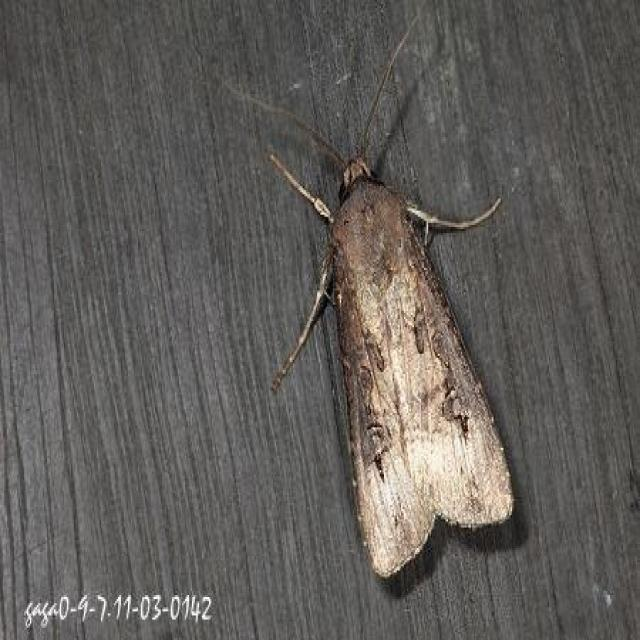black cutworm: (301, 155, 557, 579)
